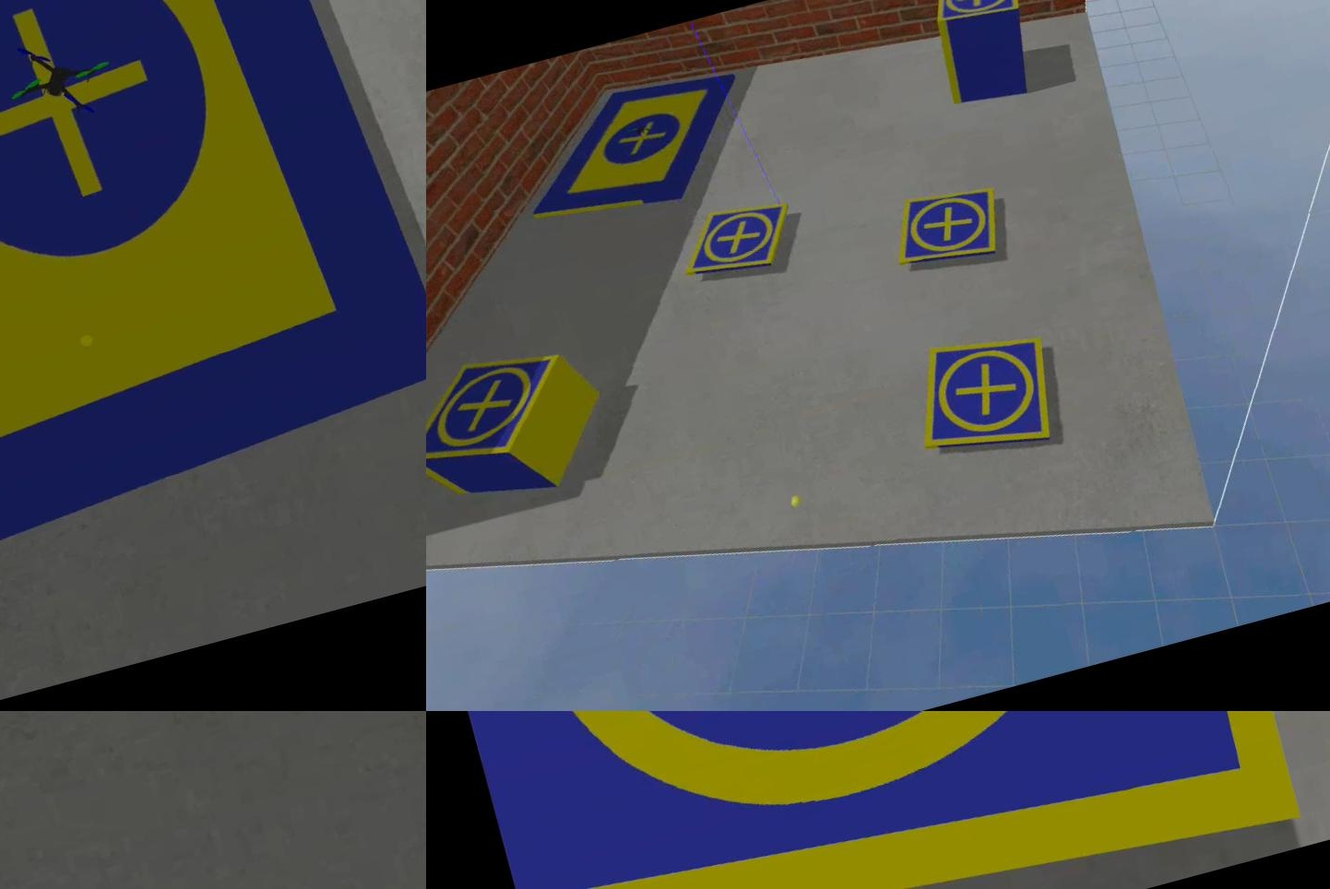large_base: (0, 1, 425, 583), (505, 65, 766, 245)
small_base: (425, 712, 1301, 889), (904, 323, 1068, 476), (425, 341, 584, 487), (884, 180, 1014, 284), (675, 197, 800, 291), (926, 1, 1026, 31)
